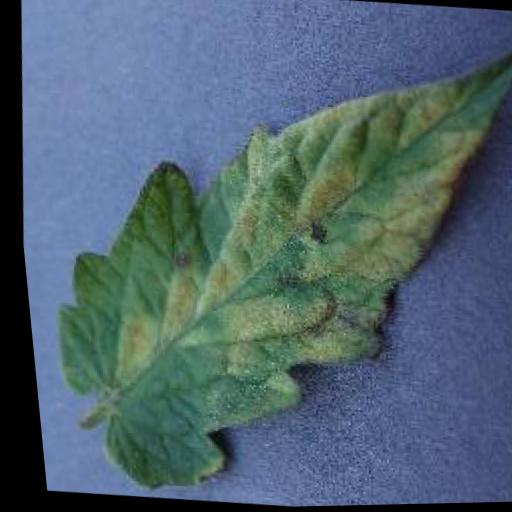Leaf Mold: (17, 9, 512, 512)
